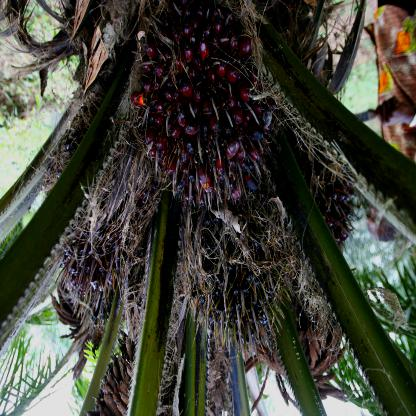1: (134, 1, 269, 205), (51, 126, 137, 337), (287, 141, 357, 263)
palm-oil: (171, 210, 282, 340)
